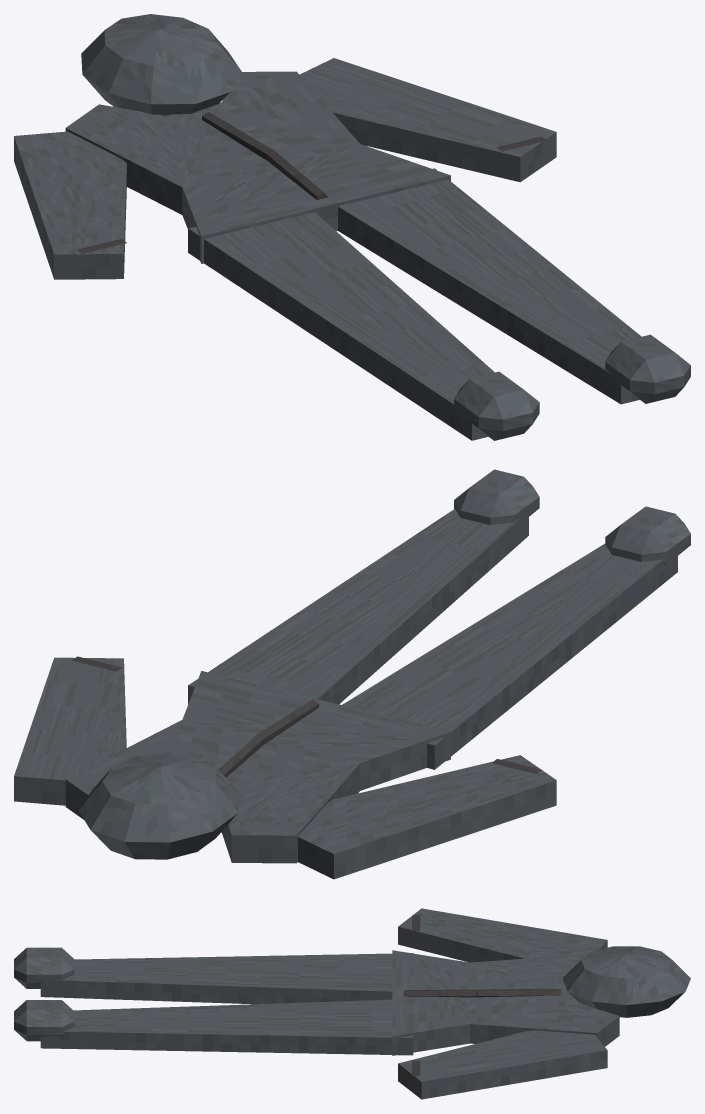
File: zentai.glb
3 renders of one model, top to bottom at view 1: azimuth 30°, elevation 25°; view 2: azimuth 150°, elevation 25°; view 3: azimuth 270°, elevation 25°, orthographic. The views are drawn at different scales.
Parts seen in each view (by area): view 1: block_integral trouser leg (×2), block_suit torso, block_sleeve (×2), block_closed stretch fabric head covering, block_integral fabric foot (×2), block_sealed front zipper 0, block_sealed front zipper 1; view 2: block_integral trouser leg (×2), block_suit torso, block_sleeve (×2), block_closed stretch fabric head covering, block_integral fabric foot (×2), block_sealed front zipper 1, block_sealed front zipper 0; view 3: block_integral trouser leg (×2), block_sleeve (×2), block_suit torso, block_closed stretch fabric head covering, block_integral fabric foot (×2), block_sealed front zipper 0, block_sealed front zipper 1.
Part boxes in pixels (left/top/right/bottom): block_integral trouser leg (×2): left=188, top=168, right=641, bottom=440; block_suit torso: left=65, top=71, right=450, bottom=263; block_sleeve (×2): left=14, top=58, right=556, bottom=279; block_closed stretch fabric head covering: left=81, top=14, right=242, bottom=115; block_integral fabric foot (×2): left=454, top=334, right=690, bottom=440; block_sealed front zipper 0: left=202, top=112, right=274, bottom=160; block_sealed front zipper 1: left=268, top=151, right=327, bottom=199; block_integral trouser leg (×2): left=188, top=509, right=677, bottom=769; block_suit torso: left=65, top=671, right=450, bottom=863; block_sleeve (×2): left=14, top=657, right=556, bottom=879; block_closed stretch fabric head covering: left=78, top=752, right=239, bottom=859; block_integral fabric foot (×2): left=454, top=469, right=690, bottom=564; block_sealed front zipper 1: left=257, top=699, right=319, bottom=744; block_sealed front zipper 0: left=218, top=735, right=263, bottom=777; block_integral trouser leg (×2): left=40, top=953, right=413, bottom=1055; block_sleeve (×2): left=398, top=908, right=607, bottom=1099; block_suit torso: left=392, top=950, right=619, bottom=1055; block_closed stretch fabric head covering: left=562, top=946, right=690, bottom=1017; block_integral fabric foot (×2): left=14, top=947, right=74, bottom=1041; block_sealed front zipper 0: left=477, top=989, right=561, bottom=997; block_sealed front zipper 1: left=403, top=989, right=477, bottom=997.
Bounding box in the file's own units: 0.2606 × 0.0413 × 0.4302.
Materials: 1 (1 with a texture image).
